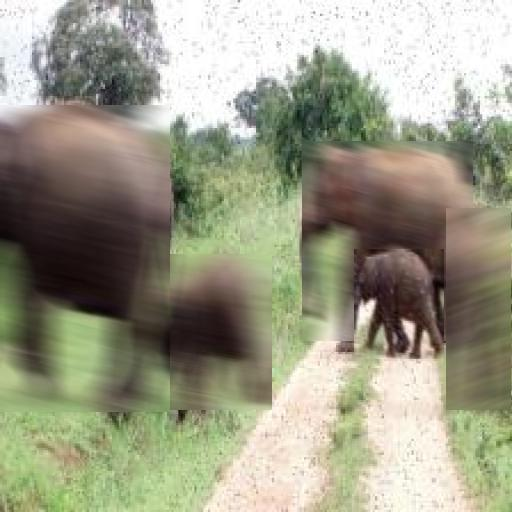Elephant: (0, 105, 170, 412), (302, 142, 473, 342), (144, 254, 272, 410), (446, 208, 511, 410), (354, 249, 444, 359)
